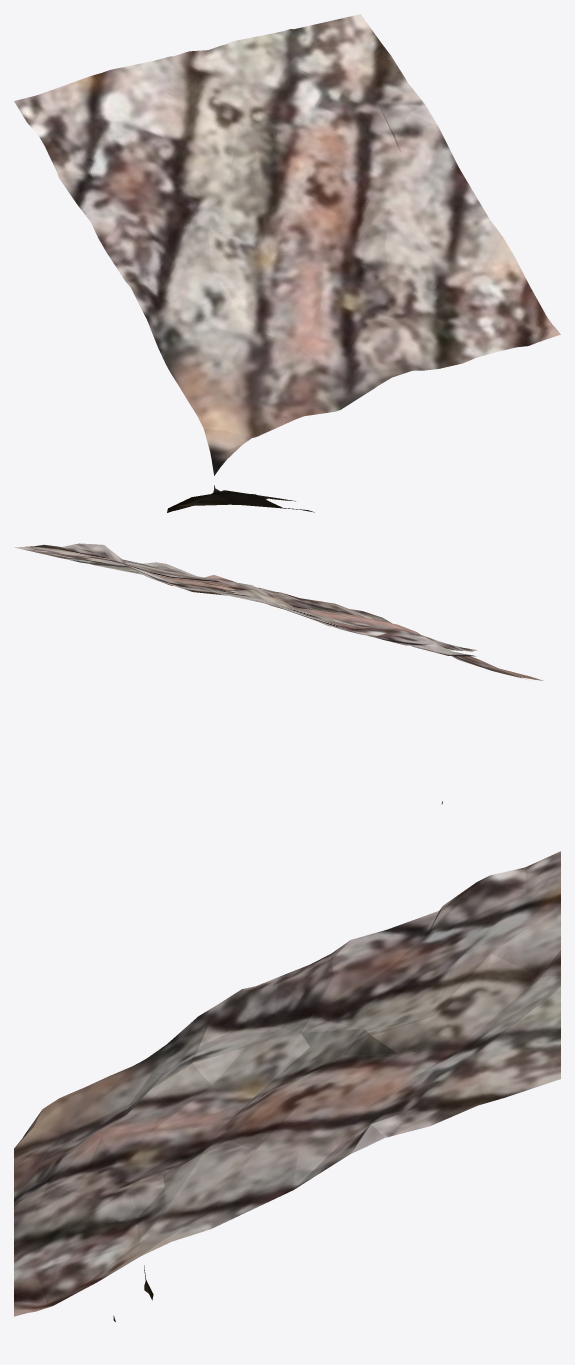
3 views of the same model, one above another, from view 1: azimuth 30°, elevation 25°; view 2: azimuth 150°, elevation 25°; view 3: azimuth 270°, elevation 25° (orthographic). The views are drawn at different scales.
Bounding box in the file's own units: 0.8374 × 0.7102 × 0.8374.
Materials: 3 (3 with a texture image).
